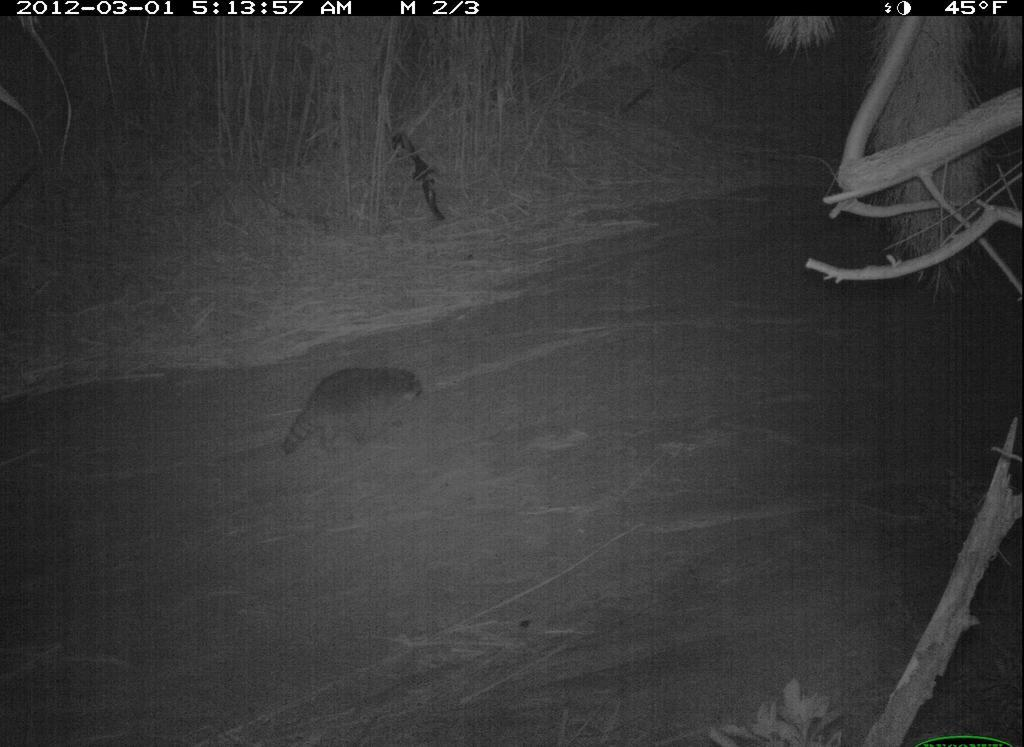raccoon: (265, 358, 434, 468)
